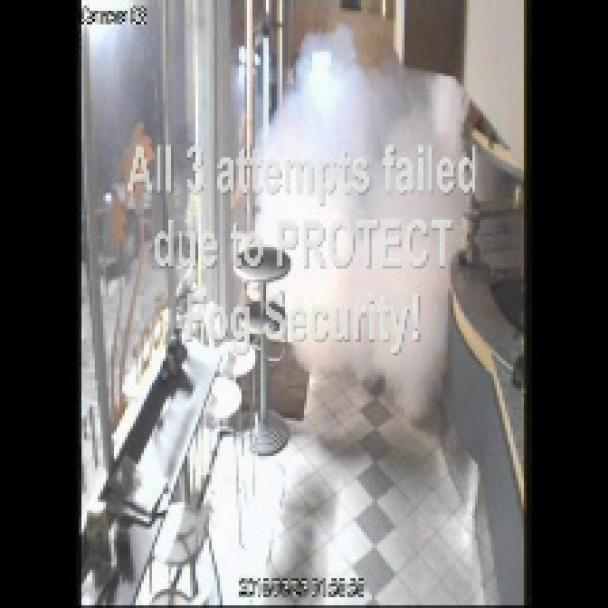smoke: (223, 30, 464, 440)
